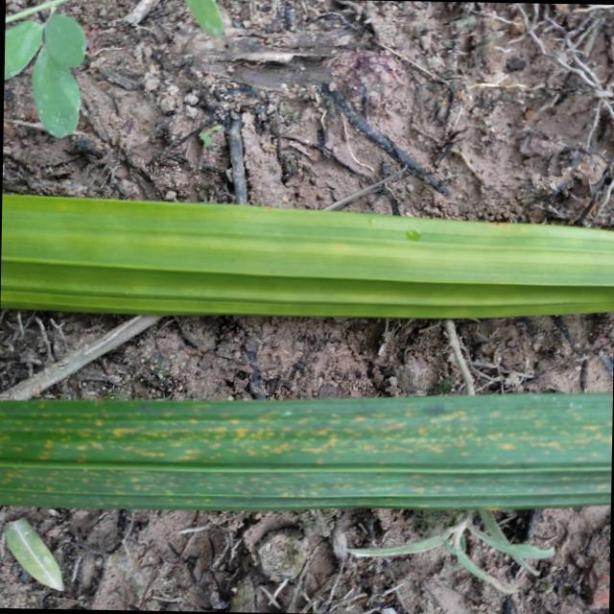nitrogen: (0, 187, 614, 321), (6, 388, 614, 512)
